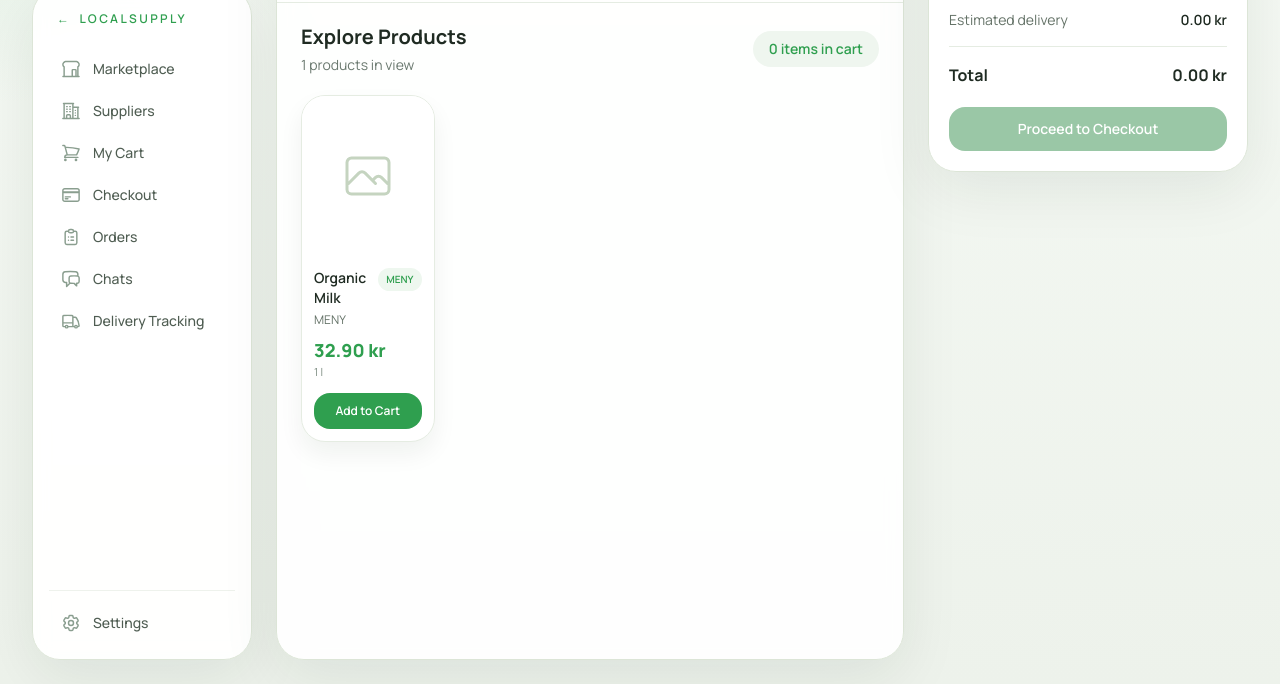
Test: MarketplaceDashboardPage › clicking Add to Cart shows the quantity stepper with count 1
The width and height of the screenshot is (1280, 684).
(page scrolled)
Click the button "Add to Cart". click: x=368, y=410
box: [314,392,422,428]
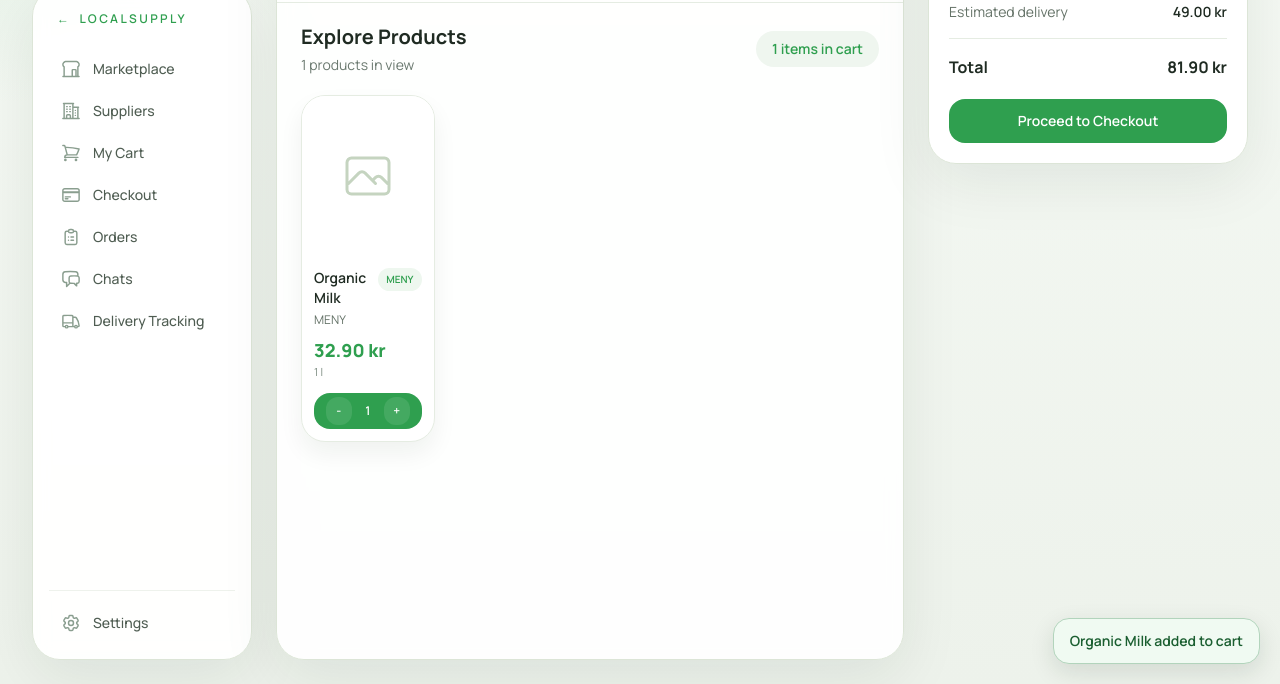
expect the button "Add to Cart" is gone: met
expect the text "1" is shown: met, box [365,402,370,418]
